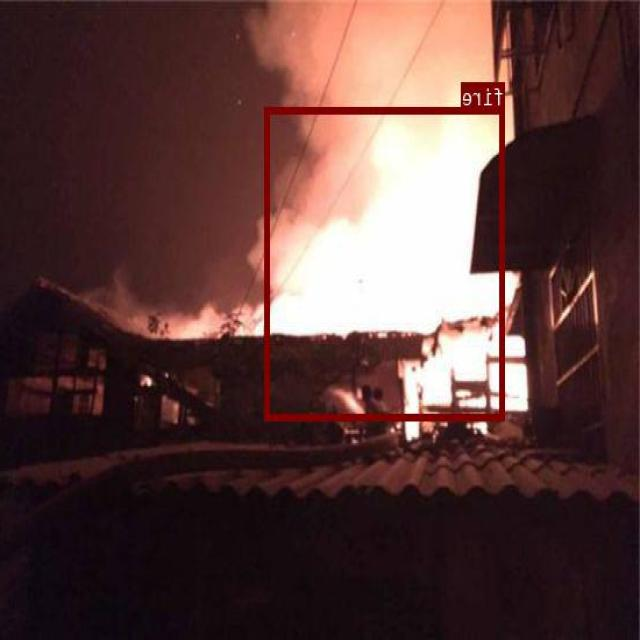fire: (266, 106, 506, 419)
